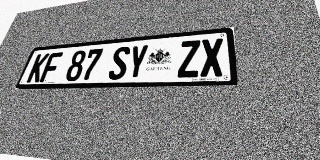7: (79, 48, 103, 81)
8: (64, 50, 88, 81)
F: (39, 52, 63, 82)
K: (26, 53, 50, 83)
S: (107, 46, 131, 80)
X: (200, 38, 224, 77)
Y: (125, 44, 149, 79)
Z: (177, 40, 200, 78)
